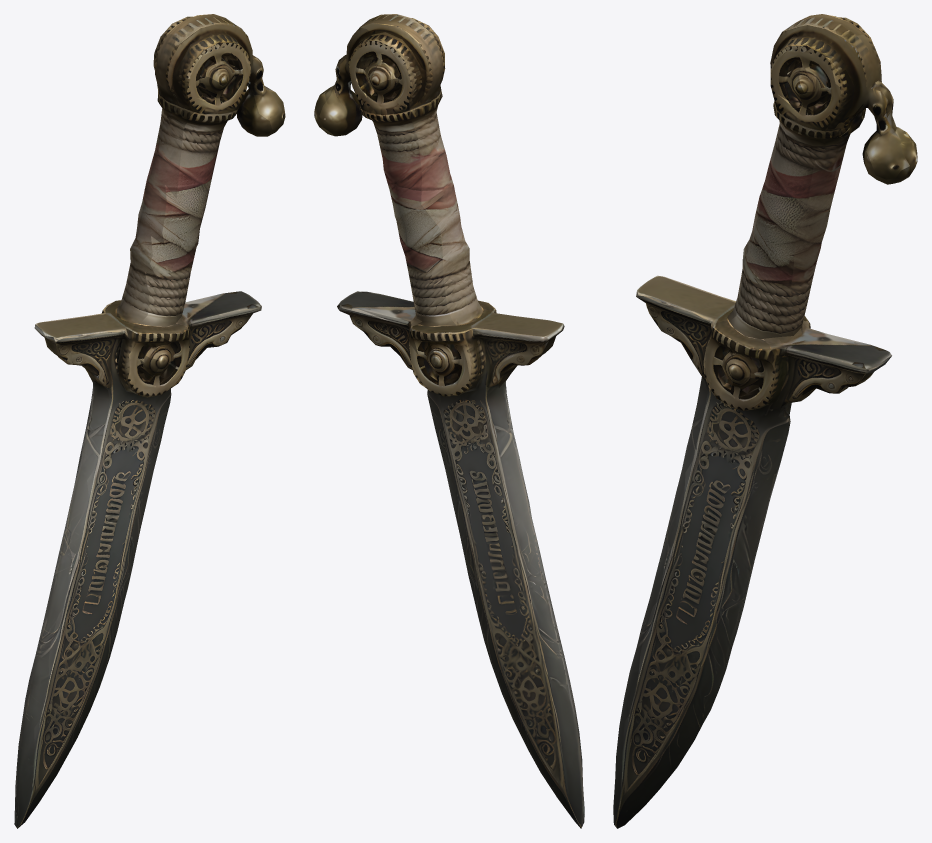
The model's file is Knife.fbx.
3 views of the same model, side by side, from view 1: azimuth 30°, elevation 25°; view 2: azimuth 150°, elevation 25°; view 3: azimuth 330°, elevation 25° (orthographic). The views are drawn at different scales.
Parts seen in each view (by area): view 1: input; view 2: input; view 3: input.
Part boxes in pixels (bbox=[...]): input: bbox=[14, 14, 285, 828]; input: bbox=[314, 14, 584, 828]; input: bbox=[613, 14, 917, 828].
Bounding box in the file's own units: 36.44 × 99.75 × 11.16.
Materials: 1 (1 with a texture image).
